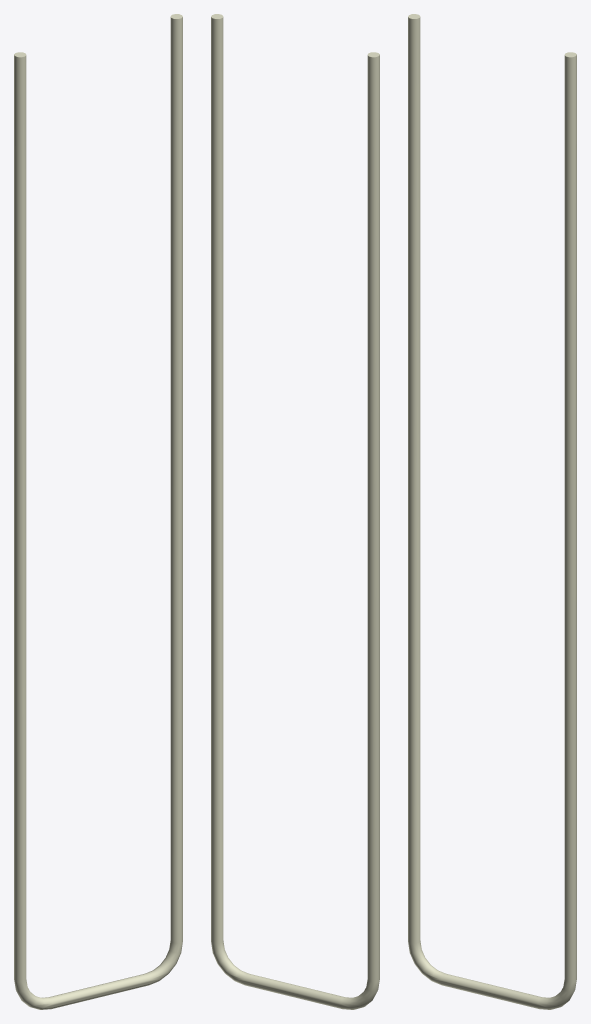
The model's file is original-4.obj.
3 views of the same model, side by side, from view 1: azimuth 30°, elevation 25°; view 2: azimuth 150°, elevation 25°; view 3: azimuth 330°, elevation 25° (orthographic).
Parts seen in each view (by area): view 1: #ID19; view 2: #ID19; view 3: #ID19.
Part boxes in pixels (x1,y1,x2,y2): #ID19: [14, 14, 182, 1009]; #ID19: [211, 14, 379, 1009]; #ID19: [408, 14, 576, 1009].
Bounding box in the file's own units: 0.1291 × 0.709 × 0.00791.
